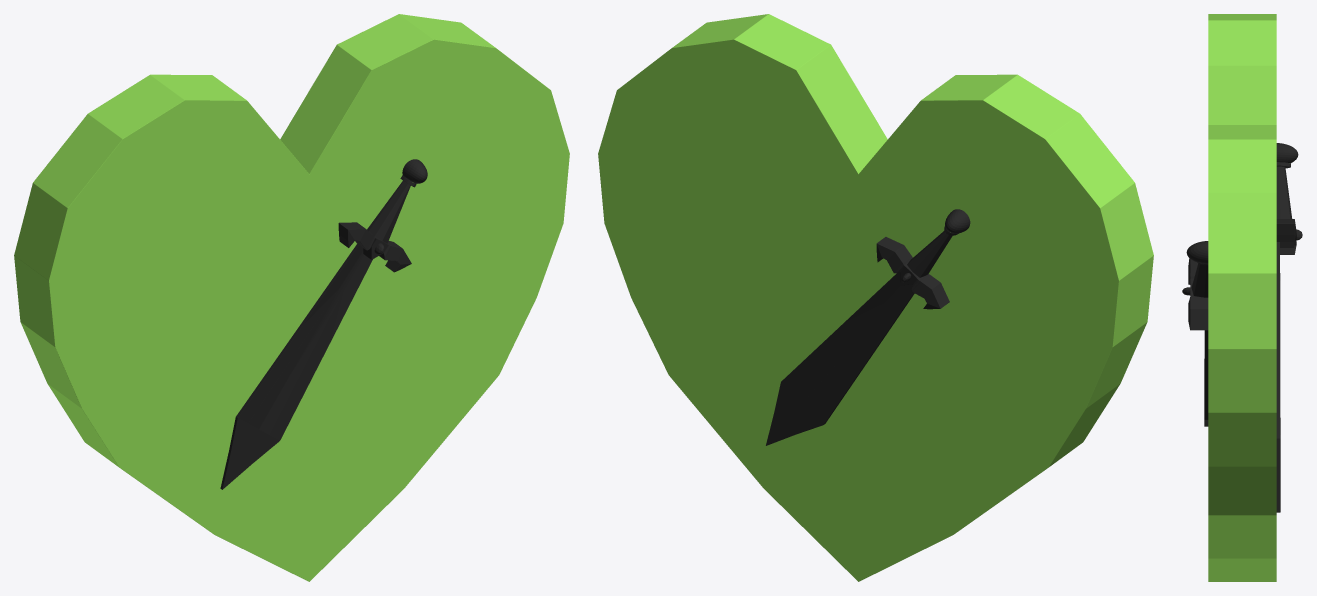
Rendered from impacto_mortal.fbx.
The picture shows the model from 3 angles, left to right: view 1: azimuth 30°, elevation 25°; view 2: azimuth 150°, elevation 25°; view 3: azimuth 270°, elevation 25°; orthographic projection. The views are drawn at different scales.
Visible parts, largest first — view 1: impacto_mortal; view 2: impacto_mortal; view 3: impacto_mortal.
Part boxes in pixels (x1,y1,x2,y2): impacto_mortal: (14, 14, 569, 581); impacto_mortal: (598, 14, 1153, 581); impacto_mortal: (1182, 14, 1302, 581).
Size of the model in its own units: 316 by 297 by 64.42.
